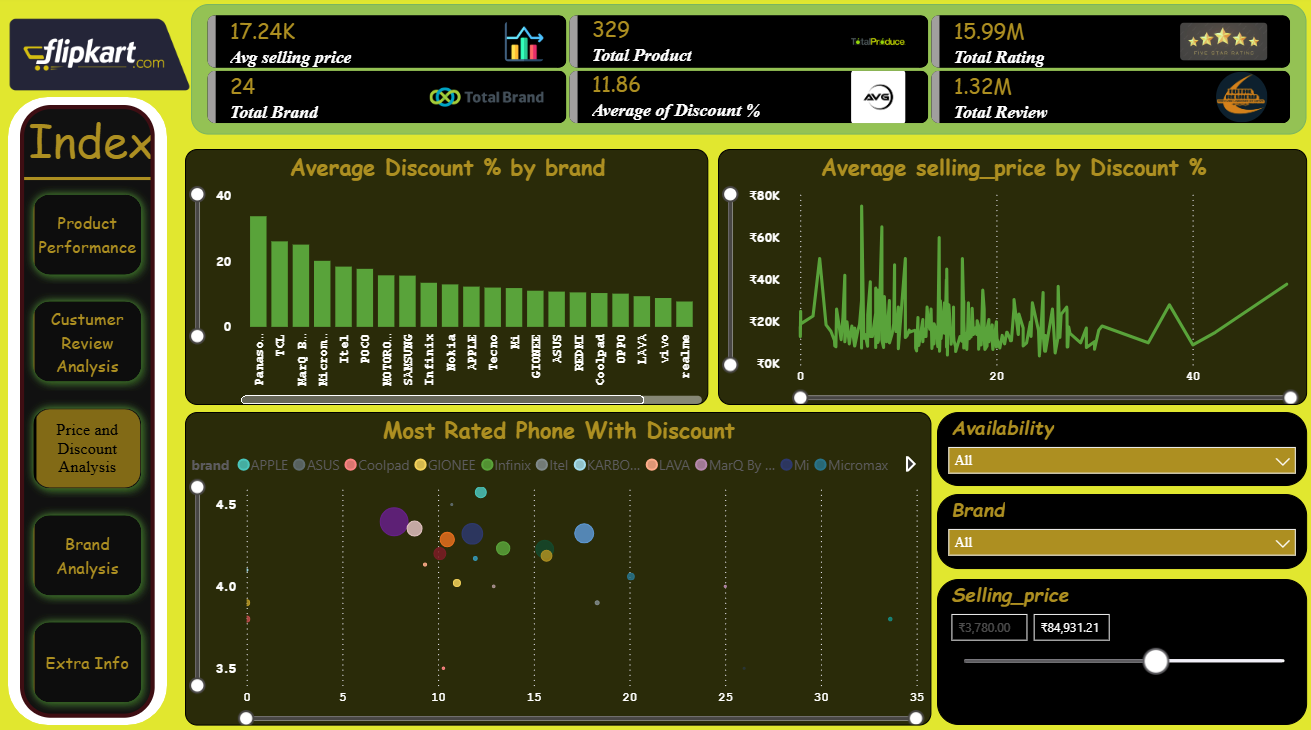

What the dashboard file says about the page in this screenshot:
{"tool":"powerbi","page":{"name":"Price and Discount Analysis","canvas":[1280,720],"ordinal":2},"visuals":[{"type":"shape","box":[9.7,98.2,154.7,610.8],"z":0},{"type":"image","box":[9.7,0,178,114.8],"z":1000},{"type":"cardVisual","fields":{"Data":["flipkart_smartphones_2022_03_26_2333_IST.Avg selling price","flipkart_smartphones_2022_03_26_2333_IST.Total Product","flipkart_smartphones_2022_03_26_2333_IST.Total Rating","flipkart_smartphones_2022_03_26_2333_IST.Total Brand","Avg(flipkart_smartphones_2022_03_26_2333_IST.Discount %)","flipkart_smartphones_2022_03_26_2333_IST.Total Review"]},"box":[187.7,7.8,1085.5,127.4],"z":2000},{"type":"slicer","fields":{"Values":["flipkart_smartphones_2022_03_26_2333_IST.brand"]},"box":[913.3,484.4,359.9,72.9],"z":3000},{"type":"slicer","fields":{"Values":["flipkart_smartphones_2022_03_26_2333_IST.availability"]},"box":[913.3,404.6,359.9,72],"z":4000},{"type":"slicer","fields":{"Values":["flipkart_smartphones_2022_03_26_2333_IST.selling_price"]},"box":[913.3,567.1,359.9,142],"z":5000},{"type":"columnChart","title":"Average Discount % by brand","fields":{"Category":["flipkart_smartphones_2022_03_26_2333_IST.brand"],"Y":["Avg(flipkart_smartphones_2022_03_26_2333_IST.Discount %)"]},"box":[181.9,148.8,508.7,249],"z":6000},{"type":"lineChart","title":"Average selling_price by Discount %","fields":{"Category":["flipkart_smartphones_2022_03_26_2333_IST.Discount %"],"Y":["Avg(flipkart_smartphones_2022_03_26_2333_IST.selling_price)"]},"box":[707,149,573,249],"z":7000},{"type":"scatterChart","title":"Most Rated Phone With Discount","fields":{"X":["Avg(flipkart_smartphones_2022_03_26_2333_IST.Discount %)"],"Y":["Avg(flipkart_smartphones_2022_03_26_2333_IST.avg_rating)"],"Series":["flipkart_smartphones_2022_03_26_2333_IST.brand"],"Size":["flipkart_smartphones_2022_03_26_2333_IST.Total Review"]},"box":[181.9,404.6,725.6,305.4],"z":8000},{"type":"pageNavigator","title":"Index","box":[21,106,131,596],"z":9000}]}

Visuals, with their boxes in screenshot pixels (x1, y1, x2, y2), scaled from the page's 1280x720 canvas onto the 1311x730 screenshot:
shape: 10,100,168,719
image: 10,0,192,116
cardVisual - flipkart_smartphones_2022_03_26_2333_IST.Avg selling price x flipkart_smartphones_2022_03_26_2333_IST.Total Product: 192,8,1304,137
slicer - flipkart_smartphones_2022_03_26_2333_IST.brand: 935,491,1304,565
slicer - flipkart_smartphones_2022_03_26_2333_IST.availability: 935,410,1304,483
slicer - flipkart_smartphones_2022_03_26_2333_IST.selling_price: 935,575,1304,719
"Average Discount % by brand" columnChart: 186,151,707,403
"Average selling_price by Discount %" lineChart: 724,151,1310,404
"Most Rated Phone With Discount" scatterChart: 186,410,929,720
"Index" pageNavigator: 22,107,156,712
